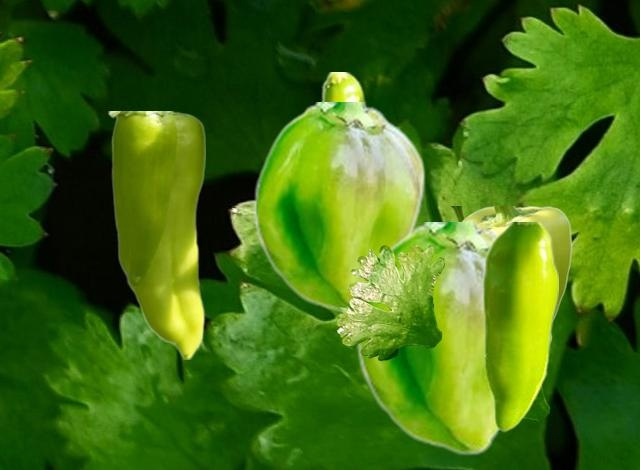green_chili: (253, 102, 425, 314), (356, 222, 503, 455), (107, 111, 204, 358), (482, 222, 557, 431), (449, 206, 571, 318), (318, 72, 367, 105)
